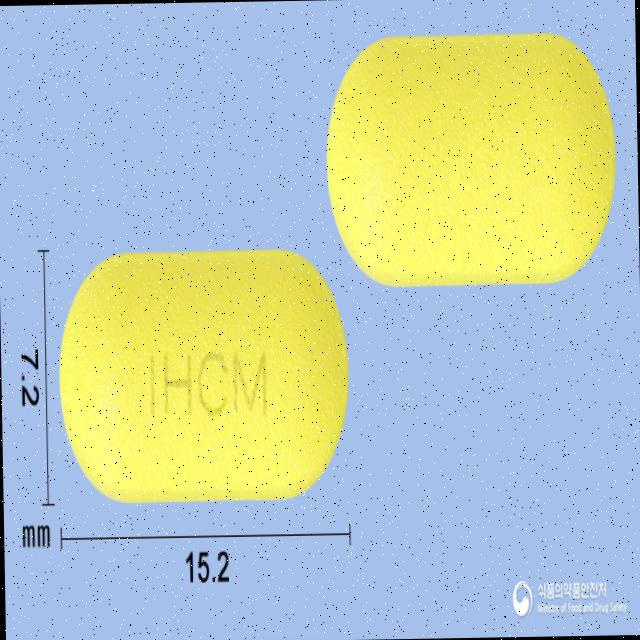Claritin: (324, 29, 618, 291), (56, 248, 352, 506)
